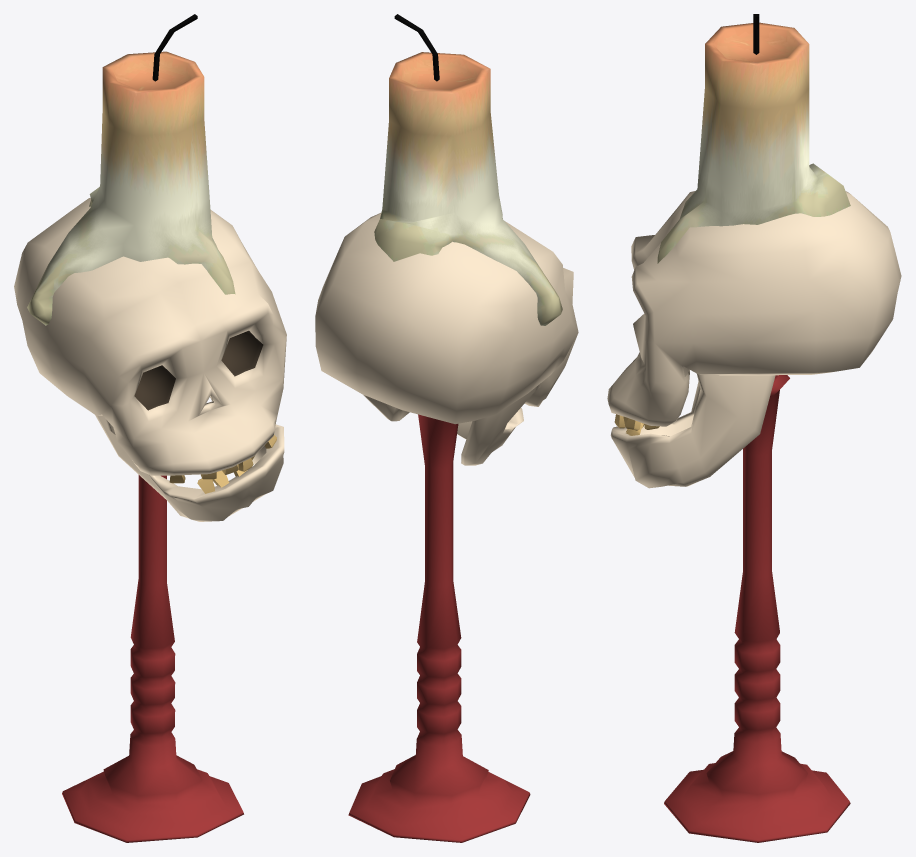
Rendered from skull_candle.glb.
3 renders of one model, left to right at view 1: azimuth 30°, elevation 25°; view 2: azimuth 150°, elevation 25°; view 3: azimuth 270°, elevation 25°, orthographic. The views are drawn at different scales.
Visible parts, largest first — view 1: Object_3, Object_6, Object_5, Object_2, Object_4, Object_8; view 2: Object_3, Object_6, Object_5, Object_2; view 3: Object_3, Object_5, Object_6, Object_2.
Part boxes in pixels (x1,y1,x2,y2): Object_3: (14,198,286,475); Object_6: (27,51,235,325); Object_5: (62,475,243,842); Object_2: (95,415,284,521); Object_4: (134,330,263,410); Object_8: (169,435,276,493); Object_3: (315,212,578,424); Object_6: (374,52,562,325); Object_5: (348,414,530,842); Object_2: (363,383,541,465); Object_3: (607,191,901,426); Object_5: (664,375,850,842); Object_6: (657,22,850,263); Object_2: (610,374,775,488).
Size of the model in its own units: 0.4579 by 1.56 by 0.5125.
6 materials, 1 textured.
